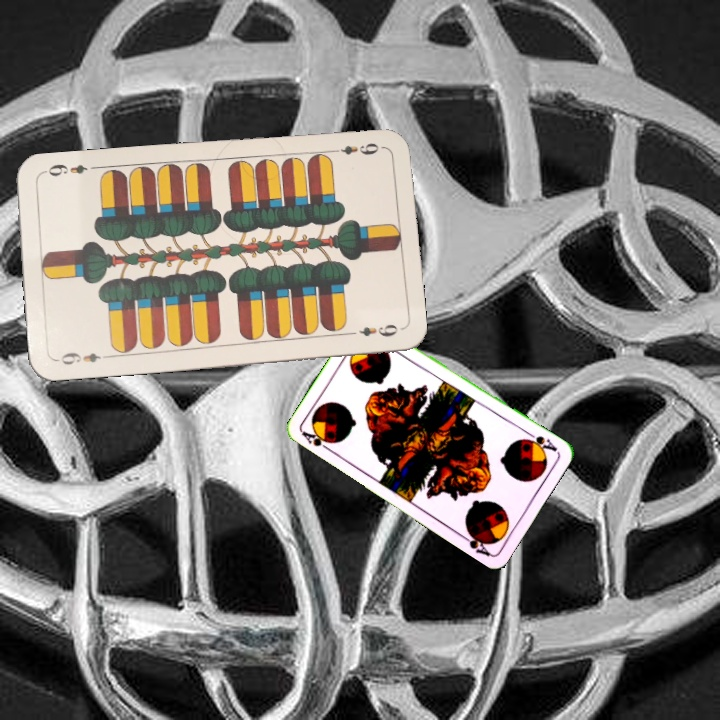E9: (53, 348, 112, 368), (328, 138, 387, 158)
SA: (298, 427, 337, 455), (520, 428, 560, 455)
